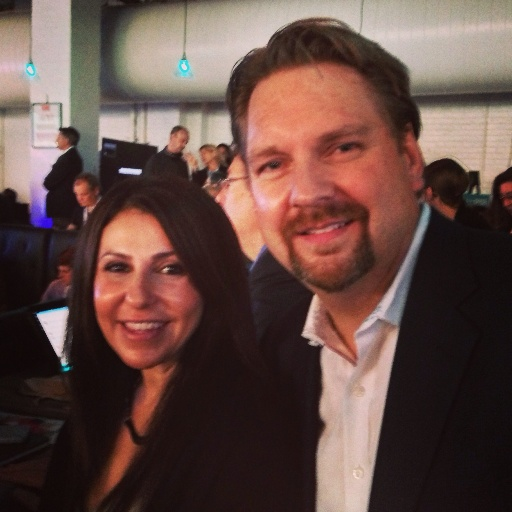hand: (182, 151, 196, 166)
